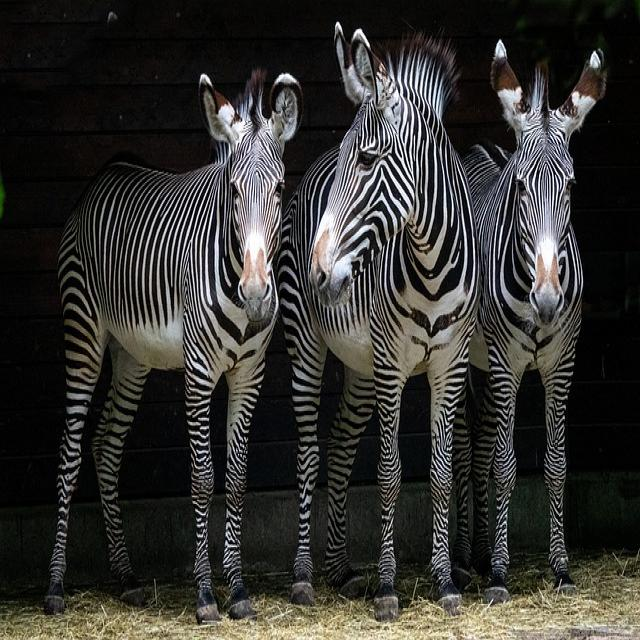Herbivorous: (43, 69, 303, 626), (305, 26, 481, 623), (470, 44, 610, 605)
